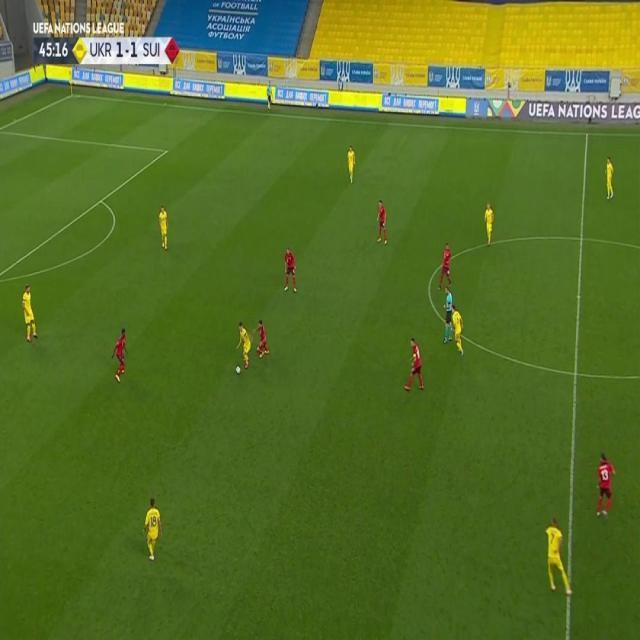ball: (235, 364, 242, 377)
player: (543, 516, 576, 599), (593, 451, 616, 519), (403, 338, 426, 393), (146, 498, 163, 563), (21, 284, 38, 343), (111, 327, 128, 385), (236, 321, 252, 369), (438, 242, 453, 292), (451, 305, 465, 356), (284, 248, 298, 295), (376, 199, 389, 247), (256, 319, 270, 360), (158, 205, 169, 250), (485, 202, 495, 248), (604, 156, 614, 201), (347, 144, 356, 185)
referee: (441, 287, 453, 345), (266, 80, 274, 114)
